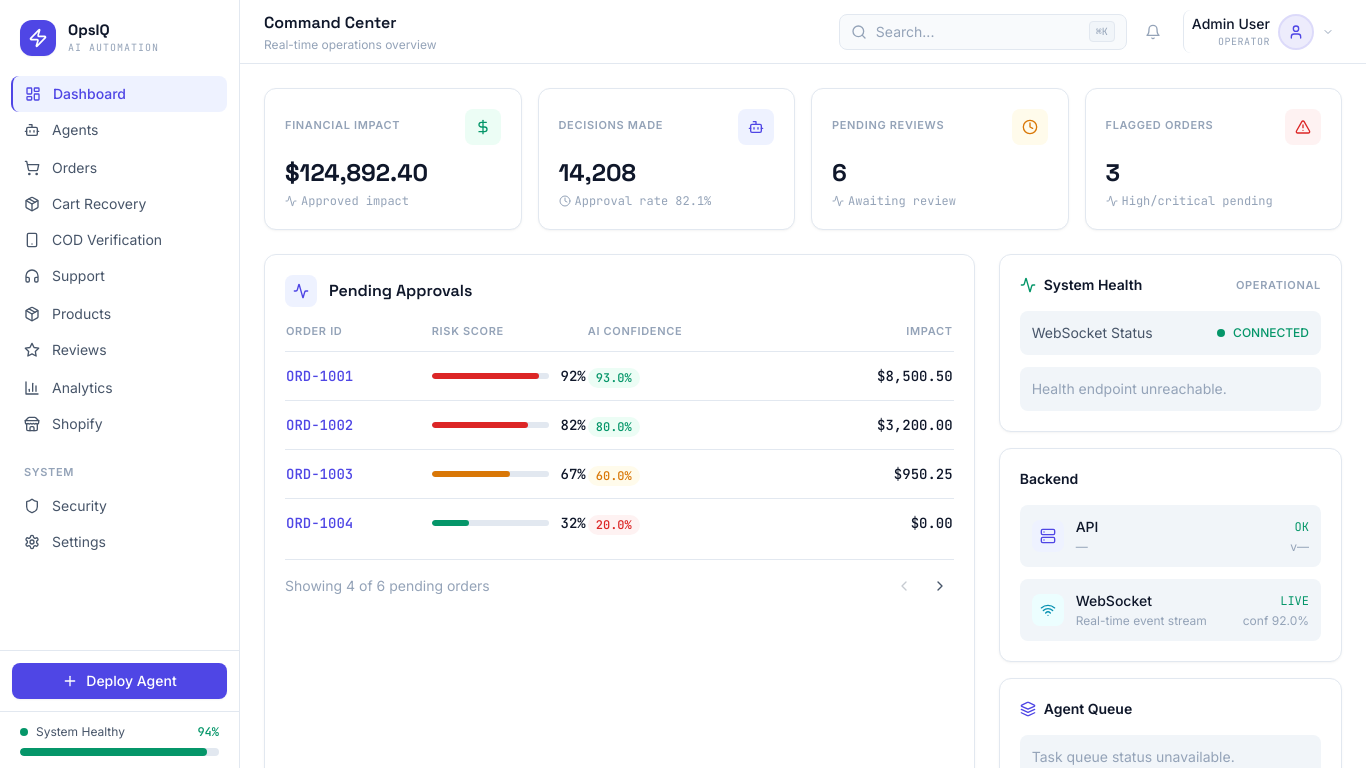
Test case: DashboardPage › renders populated decision table with pagination
The image size is (1366, 768).
Expected: the text "ORD-1001" is shown, [285,352,431,400]
Expected: the text "ORD-1004" is shown, [285,498,431,547]
What coordinates should you click on to do the following:
click the button named "Next page"
I would click on:
 (940, 586)
Its box is [926,572,954,600].
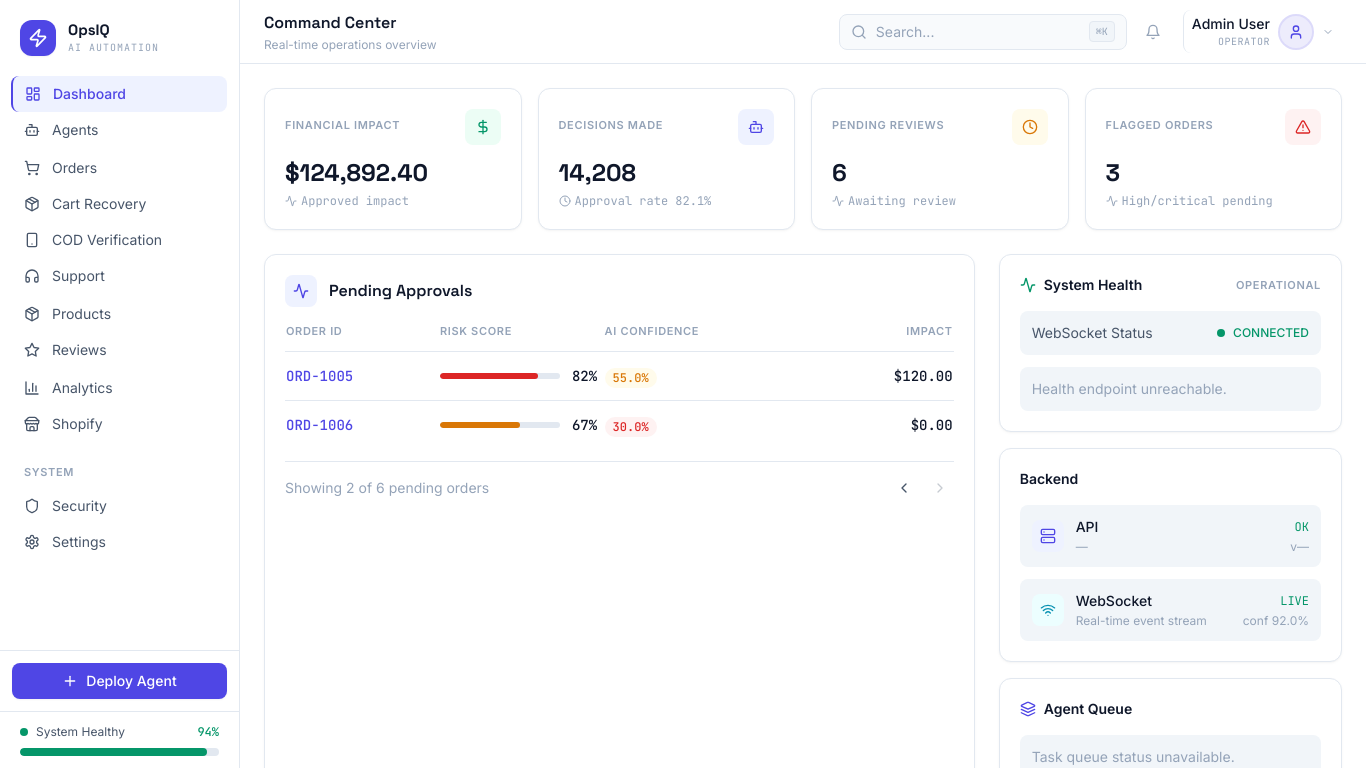
Expected: the text "Showing 2 of 6 pending orders" is shown, [285,478,489,498]
Expected: the text "ORD-1001" is gone
Expected: the text "ORD-1005" is shown, [285,352,439,400]
What coordinates should you click on to do the following:
click the button named "Previous page"
I would click on:
 (904, 488)
Its box is [890,474,918,502].
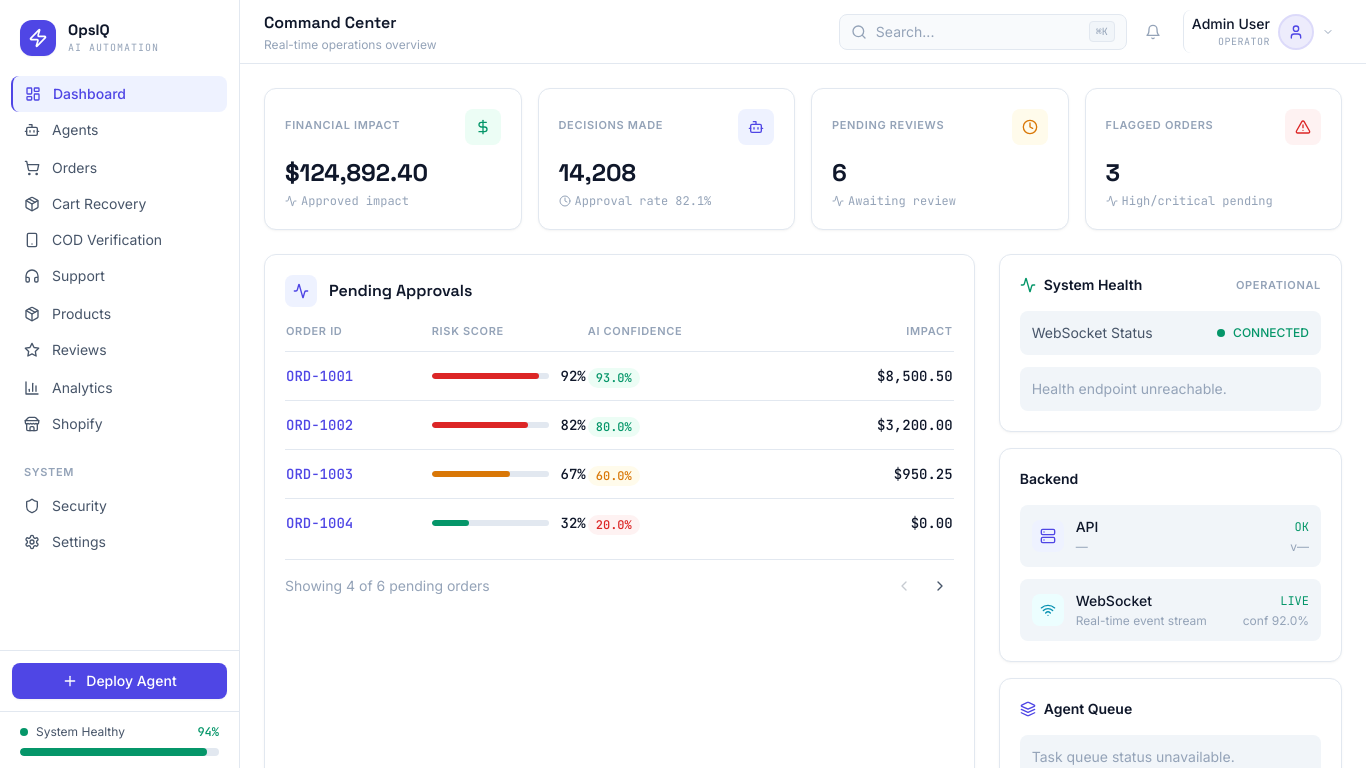
Expected: the text "Showing 4 of 6 pending orders" is shown, [285,576,490,596]
